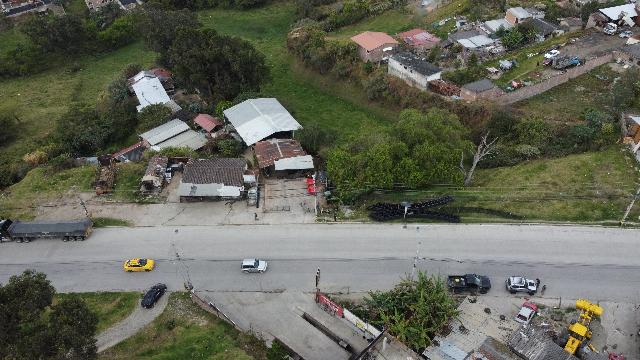Vehiculo: (448, 274, 490, 294), (141, 284, 167, 308), (506, 277, 538, 295), (514, 302, 536, 324), (124, 258, 154, 272), (241, 259, 267, 273), (544, 49, 560, 59)
